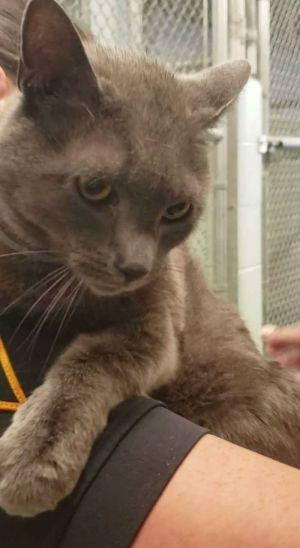rblue: (1, 1, 265, 307)
